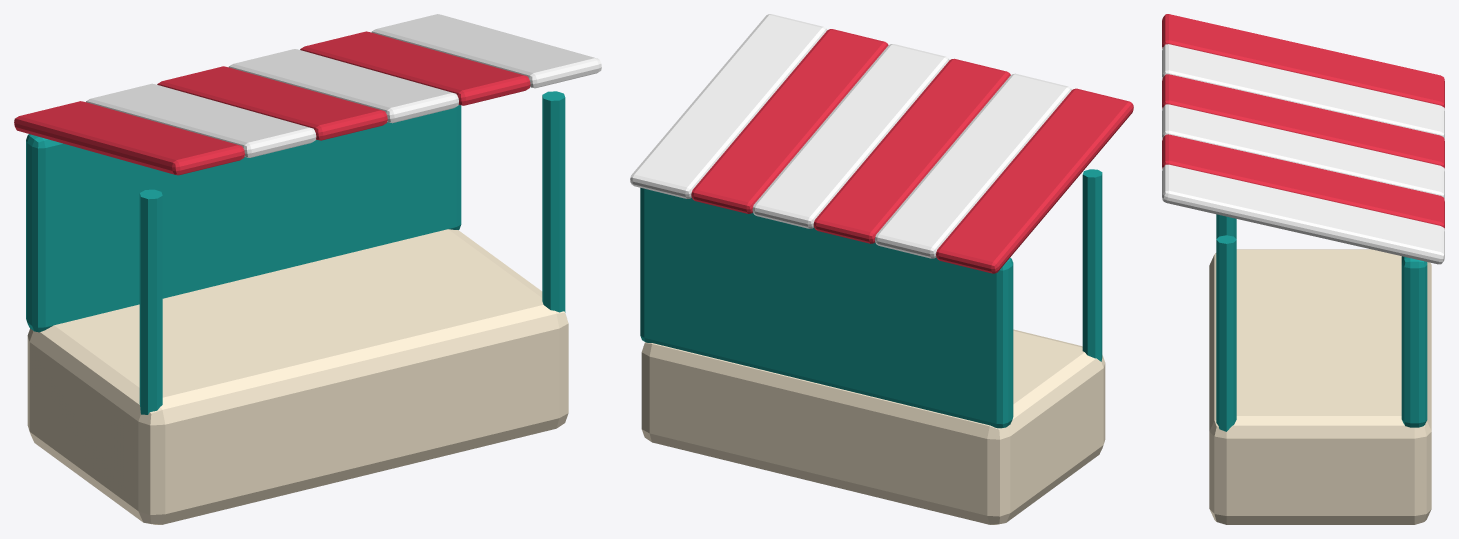
The model's file is stall.glb.
3 views of the same model, side by side, from view 1: azimuth 30°, elevation 25°; view 2: azimuth 150°, elevation 25°; view 3: azimuth 270°, elevation 25° (orthographic). The views are drawn at different scales.
Visible parts, largest first — view 1: stall; view 2: stall; view 3: stall.
Part boxes in pixels (<box>): stall: <box>14,14,601,524</box>; stall: <box>630,14,1133,524</box>; stall: <box>1162,14,1444,524</box>.
Size of the model in its own units: 5.01 by 4.37 by 3.31.
